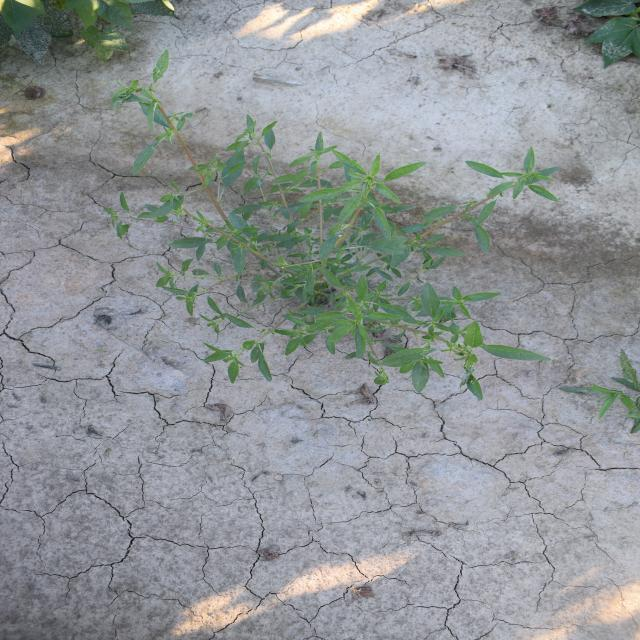Waterhemp: (98, 48, 562, 402)
